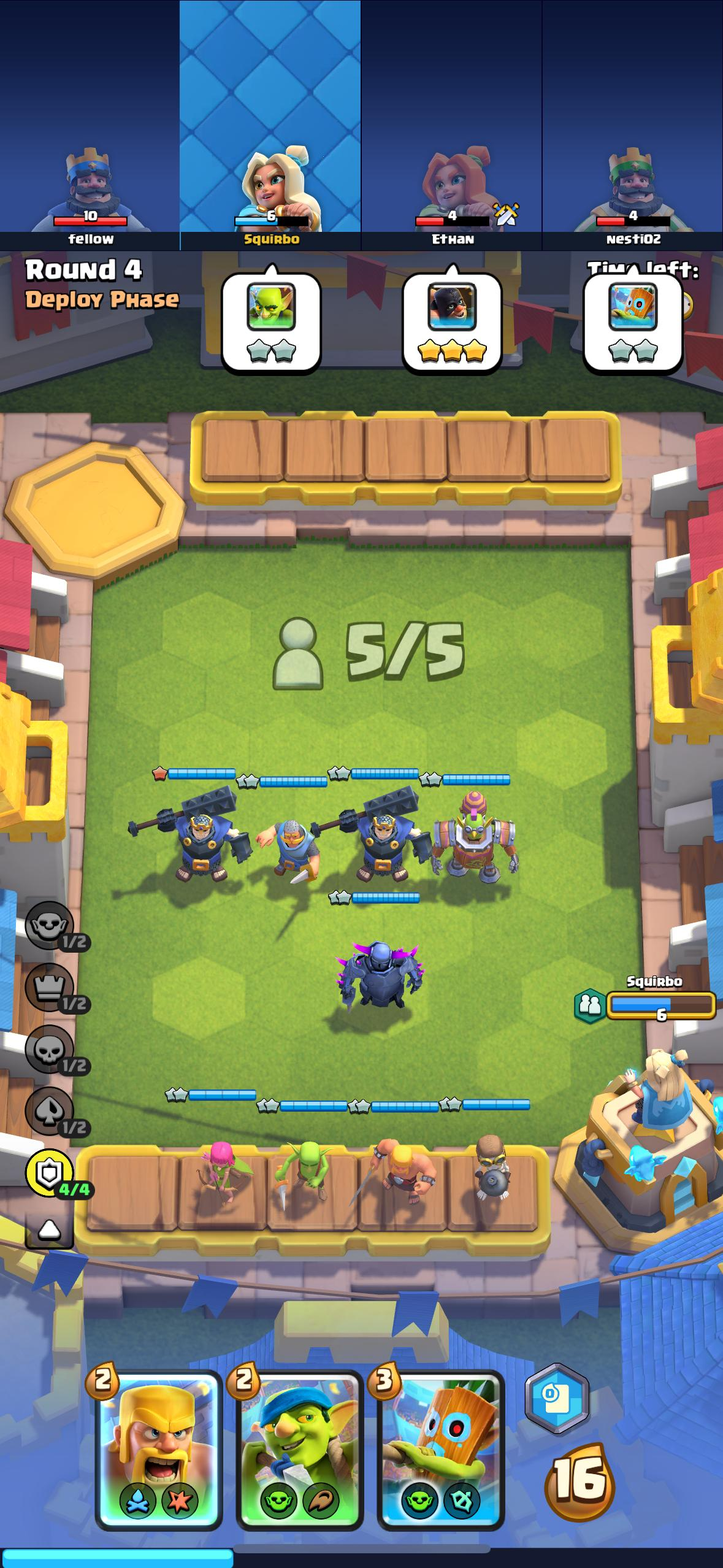archer: (180, 1132, 257, 1213)
barbarian: (349, 1126, 447, 1211)
bomber: (460, 1129, 528, 1217)
goblin: (265, 1128, 335, 1217)
hand-barbarian: (101, 1373, 217, 1523)
hand-dart: (380, 1371, 499, 1523)
hand-spear: (236, 1372, 359, 1524)
king: (117, 784, 255, 888), (329, 784, 429, 892)
knight: (254, 803, 322, 887)
machine: (424, 787, 525, 889)
pekka: (316, 932, 430, 1016)
